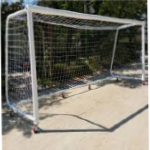goals: (3, 2, 147, 122)
